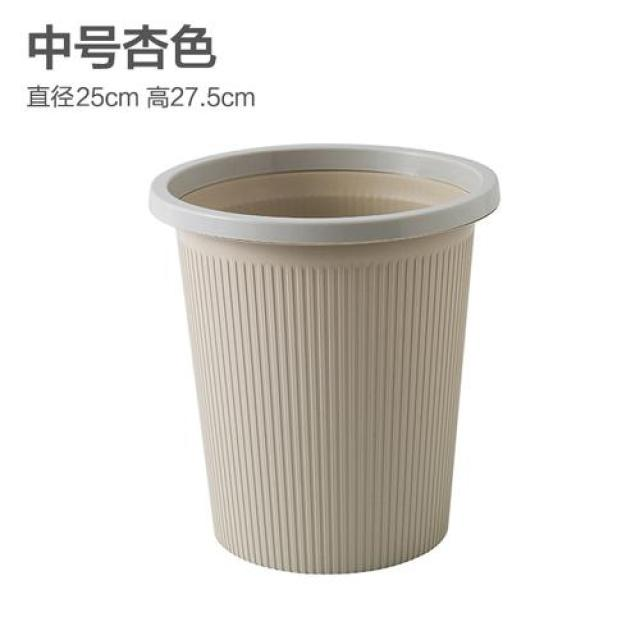dustbin: (146, 135, 506, 580)
